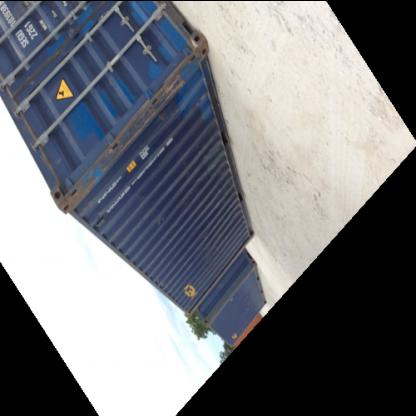Damage: (116, 75, 184, 140), (193, 156, 228, 191), (64, 180, 96, 208), (196, 242, 229, 260)
